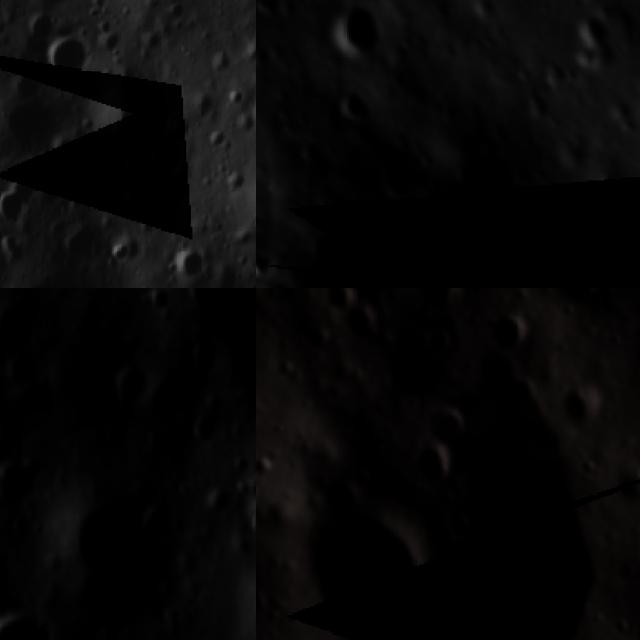crater: (256, 143, 640, 288), (300, 501, 438, 635), (56, 492, 181, 606), (94, 78, 169, 162), (323, 0, 390, 64), (145, 367, 202, 438), (101, 358, 158, 421), (567, 5, 623, 67), (0, 445, 45, 522), (41, 32, 98, 85), (417, 400, 475, 451), (0, 175, 49, 232), (408, 438, 455, 496), (556, 381, 604, 433), (329, 288, 413, 315), (484, 308, 531, 354), (170, 243, 219, 286), (561, 180, 603, 230), (0, 345, 43, 392), (0, 608, 63, 640), (0, 295, 32, 358), (338, 83, 376, 127), (138, 288, 178, 329), (100, 232, 137, 274), (604, 87, 640, 130), (340, 306, 378, 346), (417, 324, 458, 361), (606, 464, 640, 508), (417, 288, 463, 318), (200, 480, 233, 521), (556, 288, 604, 311), (178, 288, 218, 315), (31, 0, 94, 16), (471, 0, 503, 29), (256, 237, 276, 280), (297, 139, 323, 168), (256, 273, 292, 288), (514, 62, 533, 88), (256, 203, 268, 234)
